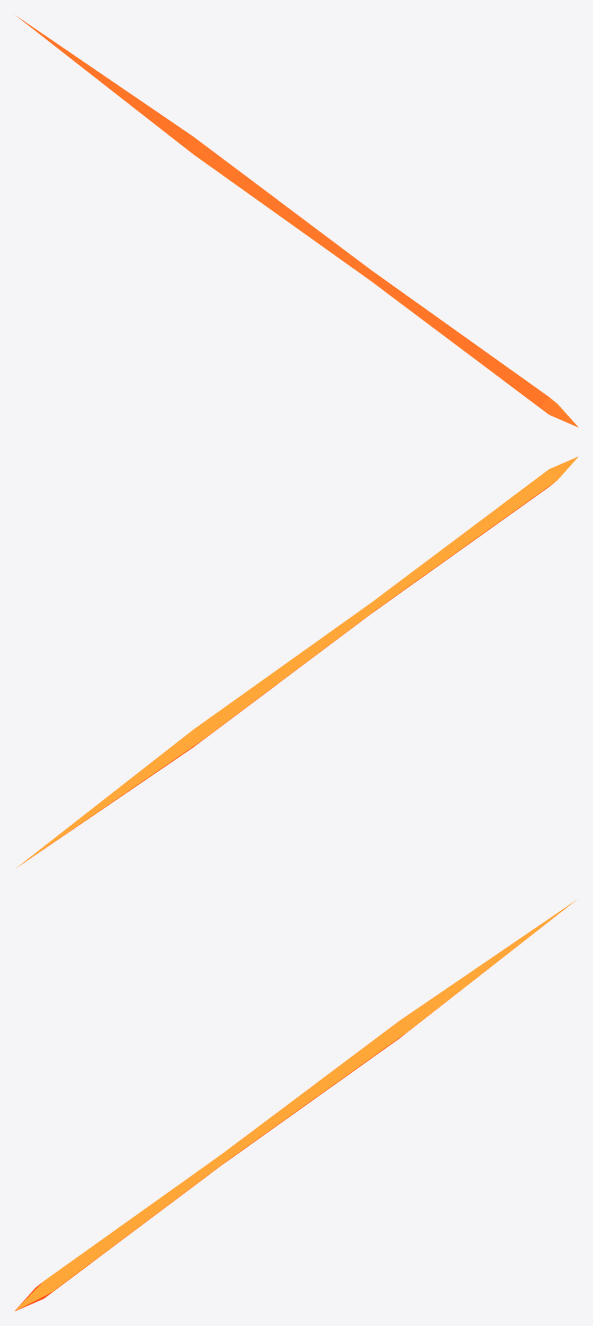
File: weapons-bullet-line.glb
3 views of the same model, one above another, from view 1: azimuth 30°, elevation 25°; view 2: azimuth 150°, elevation 25°; view 3: azimuth 330°, elevation 25° (orthographic).
Visible parts, largest first — view 1: bullet-line; view 2: bullet-line; view 3: bullet-line.
Part boxes in pixels (x1,y1,x2,y2): bullet-line: (17, 16, 578, 427); bullet-line: (17, 456, 578, 867); bullet-line: (14, 900, 575, 1311).
Bounding box in the file's own units: 0.1107 × 0.1107 × 6.36.
